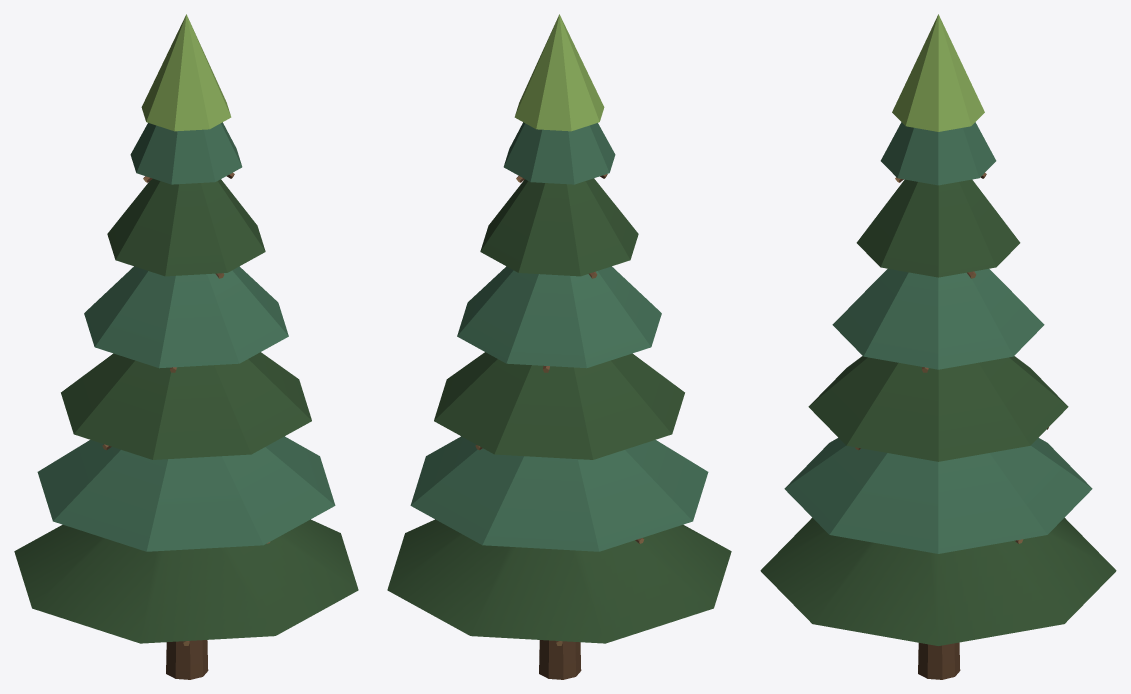
The model's file is tree_pine_b.glb.
The picture shows the model from 3 angles, left to right: view 1: azimuth 30°, elevation 25°; view 2: azimuth 150°, elevation 25°; view 3: azimuth 270°, elevation 25°; orthographic projection.
Visible parts, largest first — view 1: tree_pine_b; view 2: tree_pine_b; view 3: tree_pine_b.
Boxes of the visible parts, <box> form: tree_pine_b: <box>14,14,358,679</box>; tree_pine_b: <box>387,14,731,679</box>; tree_pine_b: <box>760,14,1116,679</box>.
Size of the model in its own units: 4.6 by 9.35 by 4.6.
